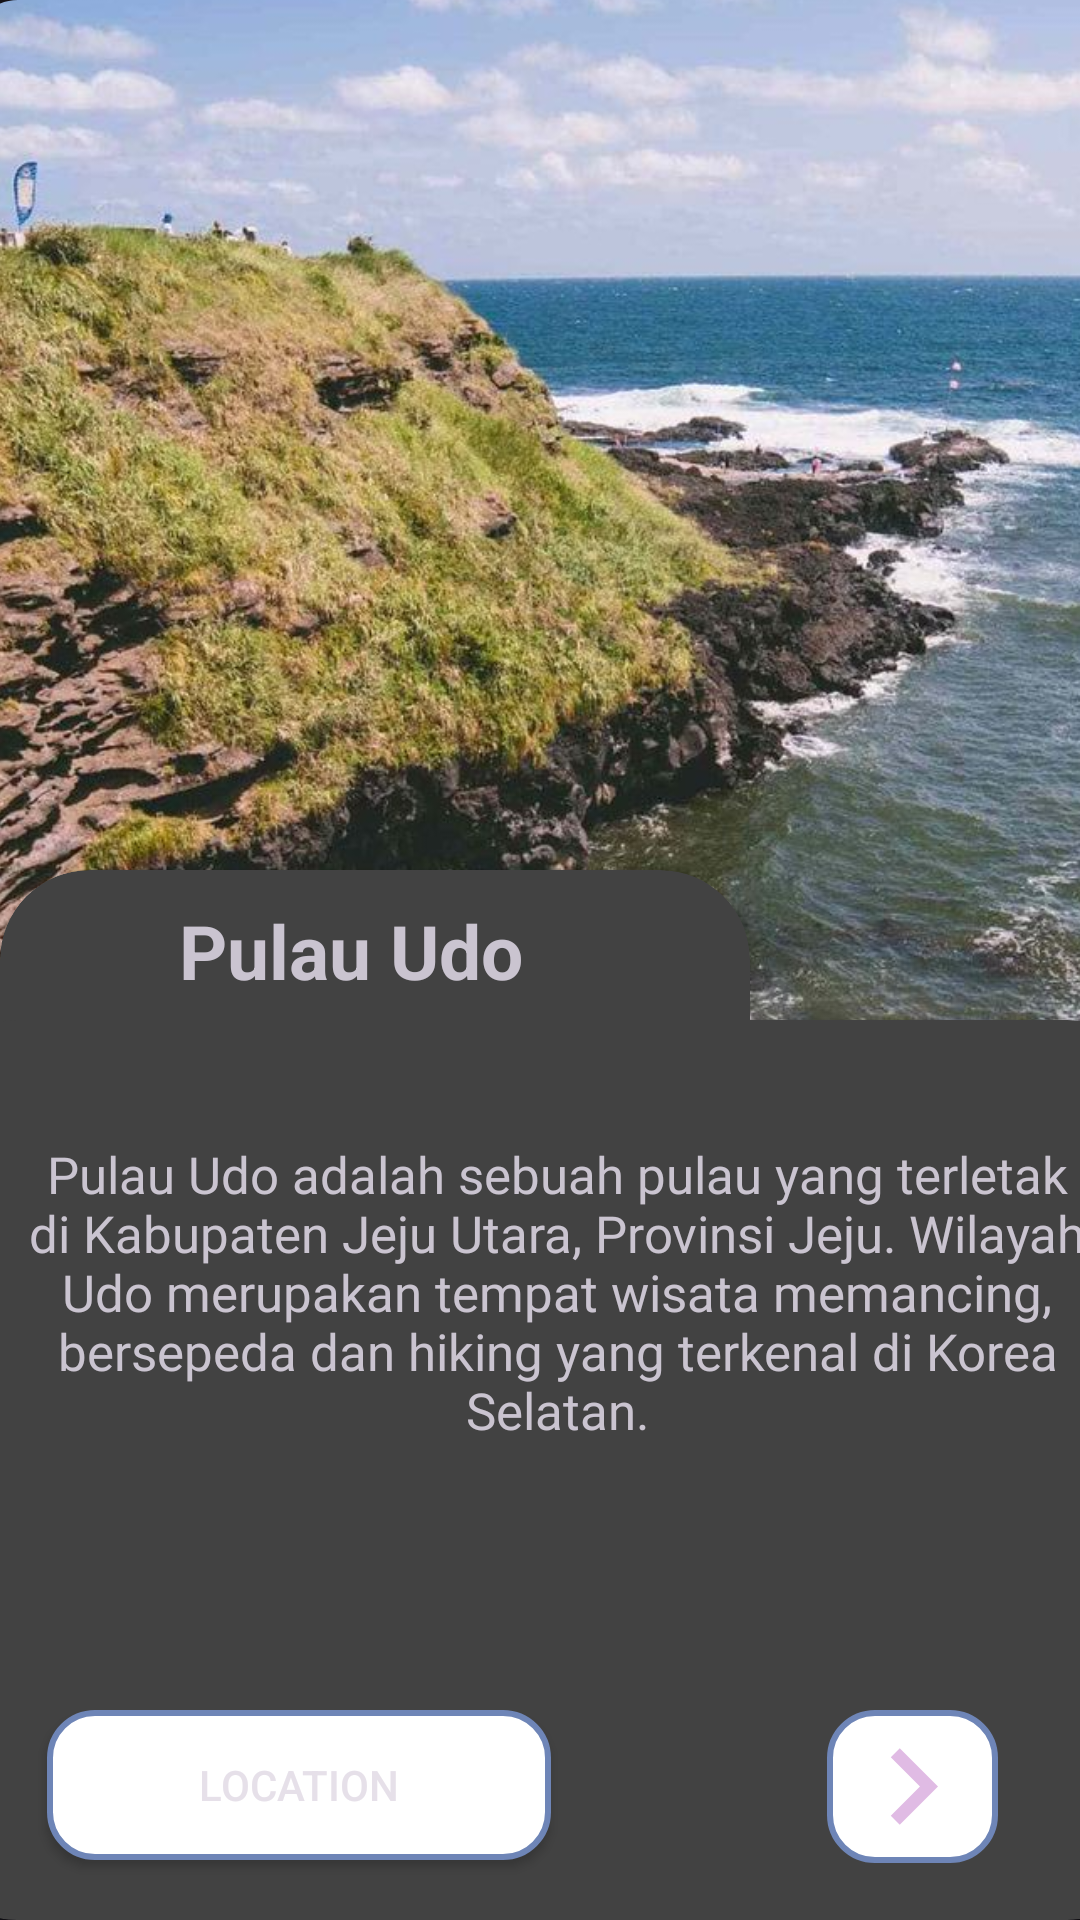

Locate icon controls on the screen. Image size 1080w x 1920h, boxes as (x1, y1, x2, y2).
navigate next: (827, 1710, 998, 1863)
